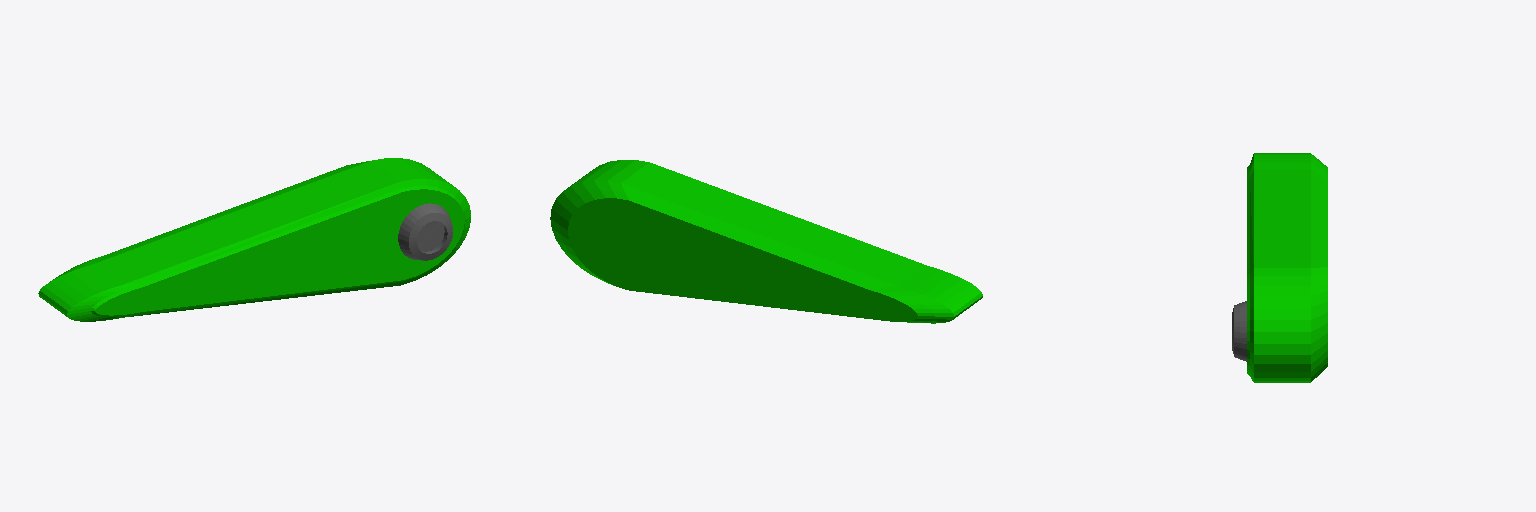
The model's file is Palette.obj.
The picture shows the model from 3 angles: view 1: azimuth 30°, elevation 25°; view 2: azimuth 150°, elevation 25°; view 3: azimuth 270°, elevation 25°; orthographic projection.
Parts seen in each view (by area): view 1: Cylinder, Cylinder.001; view 2: Cylinder; view 3: Cylinder, Cylinder.001.
Part boxes in pixels (x1,y1,x2,y2): Cylinder: (38,158,470,321); Cylinder.001: (398,203,452,260); Cylinder: (550,160,982,323); Cylinder: (1247,153,1327,382); Cylinder.001: (1232,301,1246,361).
Bounding box in the file's own units: 57.13 × 14.05 × 11.78.